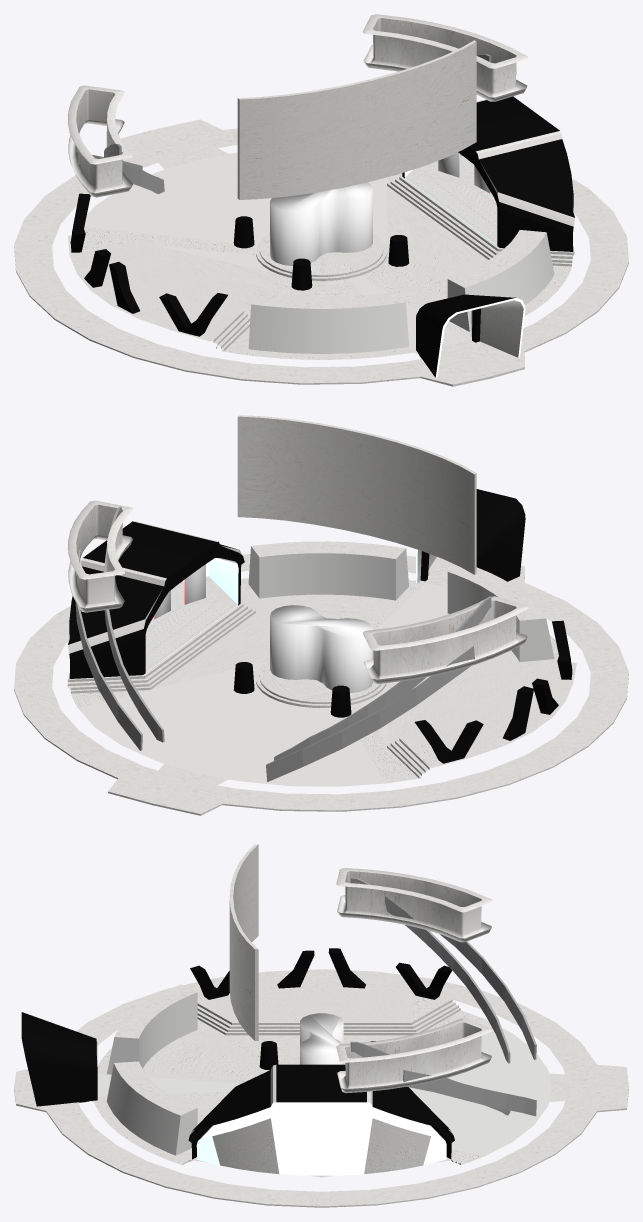
File: ShowroomLow.fbx
The picture shows the model from 3 angles, top to bottom: view 1: azimuth 30°, elevation 25°; view 2: azimuth 150°, elevation 25°; view 3: azimuth 270°, elevation 25°; orthographic projection. The views are drawn at different scales.
Parts seen in each view (by area): view 1: First_Floor_001, TV, Car_Stage_1_001, Cylinder_017, Center_stand, Entrance, Car_Stage_1, Cylinder_001_1, Stair.001, First_Floor_001.002; view 2: First_Floor_001, TV, Car_Stage_1_001, Cylinder_017, Stair.001, Center_stand, Entrance, Car_Stage_1, Cylinder_001_1, First_Floor_001.002; view 3: First_Floor_001, Car_Stage_1_001, Cylinder_017, Stair.001, Entrance, TV, Car_Stage_1, Center_stand.
Part boxes in pixels (<box>): First_Floor_001: <box>14,119,628,386</box>; TV: <box>237,40,476,199</box>; Car_Stage_1_001: <box>402,96,574,251</box>; Cylinder_017: <box>67,14,528,197</box>; Center_stand: <box>270,182,372,265</box>; Entrance: <box>416,294,525,377</box>; Car_Stage_1: <box>70,193,227,336</box>; Cylinder_001_1: <box>233,216,408,290</box>; Stair.001: <box>76,54,491,194</box>; First_Floor_001.002: <box>438,152,491,193</box>; First_Floor_001: <box>14,541,628,815</box>; TV: <box>237,415,476,574</box>; Car_Stage_1_001: <box>67,521,244,678</box>; Cylinder_017: <box>68,500,528,683</box>; Stair.001: <box>75,506,491,781</box>; Center_stand: <box>270,605,372,692</box>; Entrance: <box>416,489,525,583</box>; Car_Stage_1: <box>414,620,572,763</box>; Cylinder_001_1: <box>233,662,351,717</box>; First_Floor_001.002: <box>153,564,205,619</box>; First_Floor_001: <box>14,969,628,1207</box>; Car_Stage_1_001: <box>188,1064,454,1175</box>; Cylinder_017: <box>336,868,492,1093</box>; Stair.001: <box>350,877,536,1116</box>; Entrance: <box>21,1012,97,1106</box>; TV: <box>229,844,258,1040</box>; Car_Stage_1: <box>190,948,451,999</box>; Center_stand: <box>300,1013,343,1064</box>.
Bounding box in the file's own units: 7568 × 2866 × 8284.
